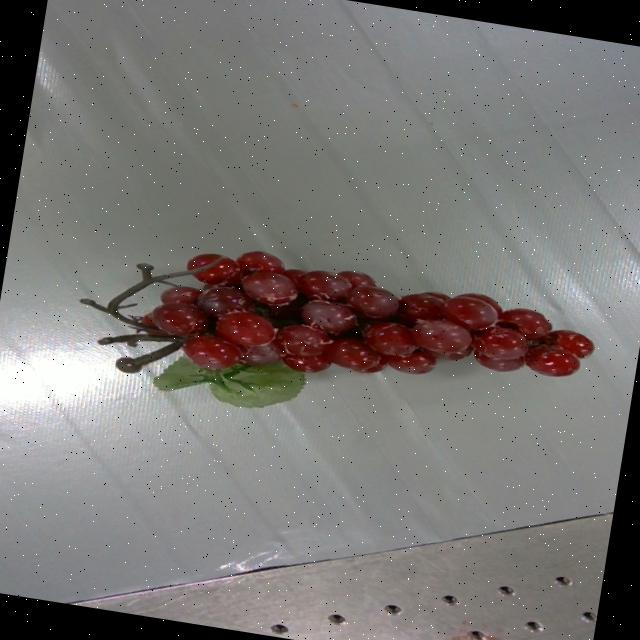grape: (80, 251, 593, 407)
